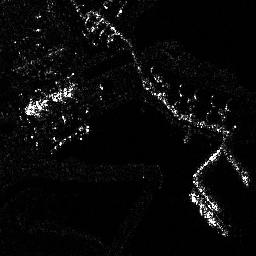ship: (188, 192, 217, 227)
